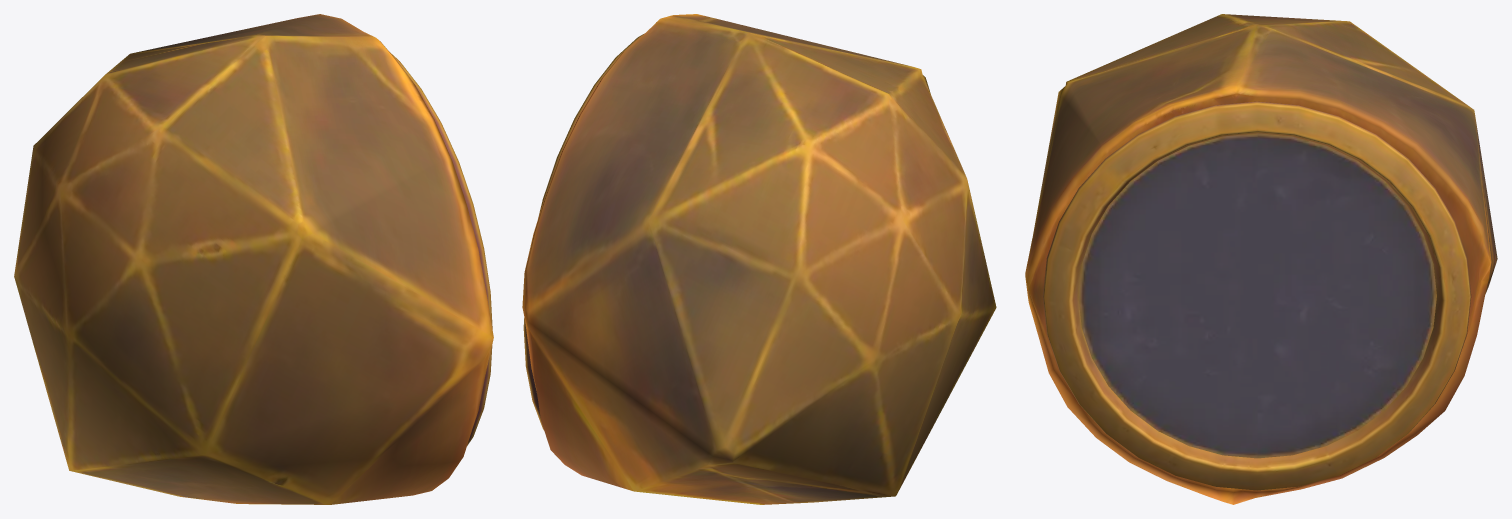
The picture shows the model from 3 angles, left to right: view 1: azimuth 30°, elevation 25°; view 2: azimuth 150°, elevation 25°; view 3: azimuth 270°, elevation 25°; orthographic projection. The views are drawn at different scales.
Parts seen in each view (by area): view 1: SM_Vault_Mirror_Single_Crystal_Lens_01_LOD0; view 2: SM_Vault_Mirror_Single_Crystal_Lens_01_LOD0; view 3: SM_Vault_Mirror_Single_Crystal_Lens_01_LOD0.
Part boxes in pixels (box(x1,y1,x2,y2)): SM_Vault_Mirror_Single_Crystal_Lens_01_LOD0: box(14, 14, 493, 504); SM_Vault_Mirror_Single_Crystal_Lens_01_LOD0: box(522, 14, 996, 504); SM_Vault_Mirror_Single_Crystal_Lens_01_LOD0: box(1025, 14, 1497, 504).
Size of the model in its own units: 0.4597 by 0.6398 by 0.6298.
1 material, 1 textured.
